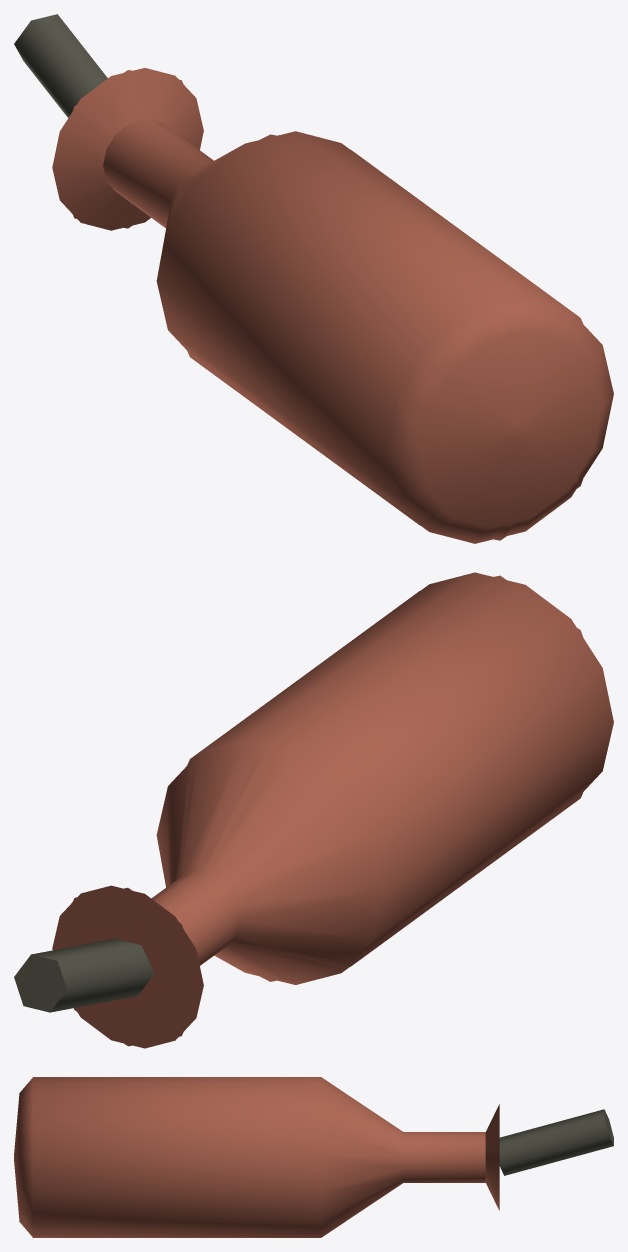
The model's file is gr_ember.glb.
3 views of the same model, one above another, from view 1: azimuth 30°, elevation 25°; view 2: azimuth 150°, elevation 25°; view 3: azimuth 270°, elevation 25° (orthographic). The views are drawn at different scales.
Visible parts, largest first — view 1: L0, L1; view 2: L0, L1; view 3: L0, L1.
Part boxes in pixels (x1,y1,x2,y2): L0: [14, 14, 613, 543]; L1: [72, 70, 583, 540]; L0: [14, 572, 613, 1048]; L1: [53, 575, 583, 1046]; L0: [14, 1077, 613, 1237]; L1: [14, 1082, 499, 1234].
Size of the model in its own units: 0.06 by 0.06 by 0.2187.
